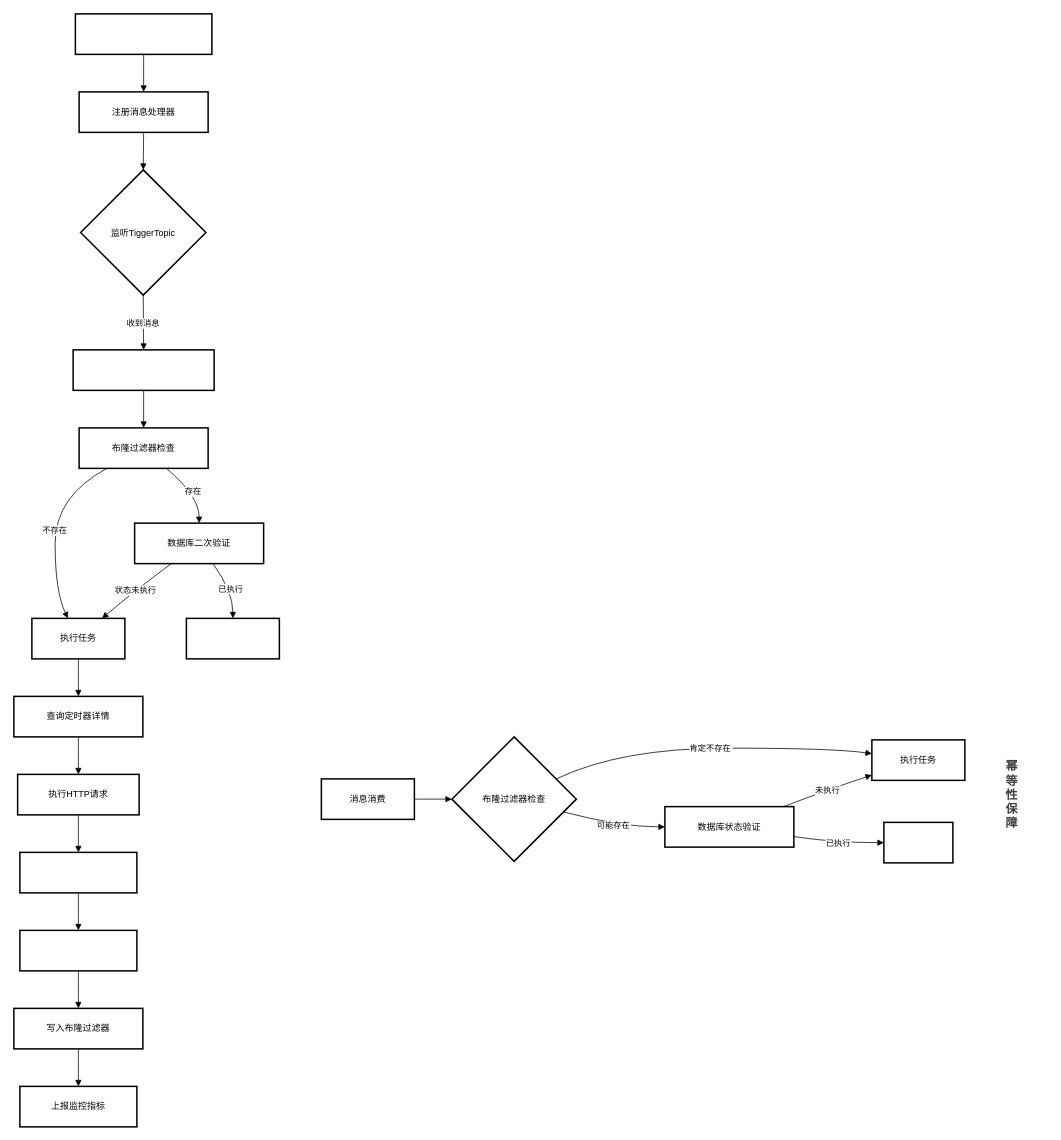
Image size: 1061x1140. Some labels were removed from this diagram. Each missing label, with the centre of its shape:
Worker.Work启动: (143,34)
更新任务状态: (78,950)
解析TimerID+Unix: (143,370)
记录执行结果: (78,872)
跳过: (918,842)
跳过处理: (232,638)
